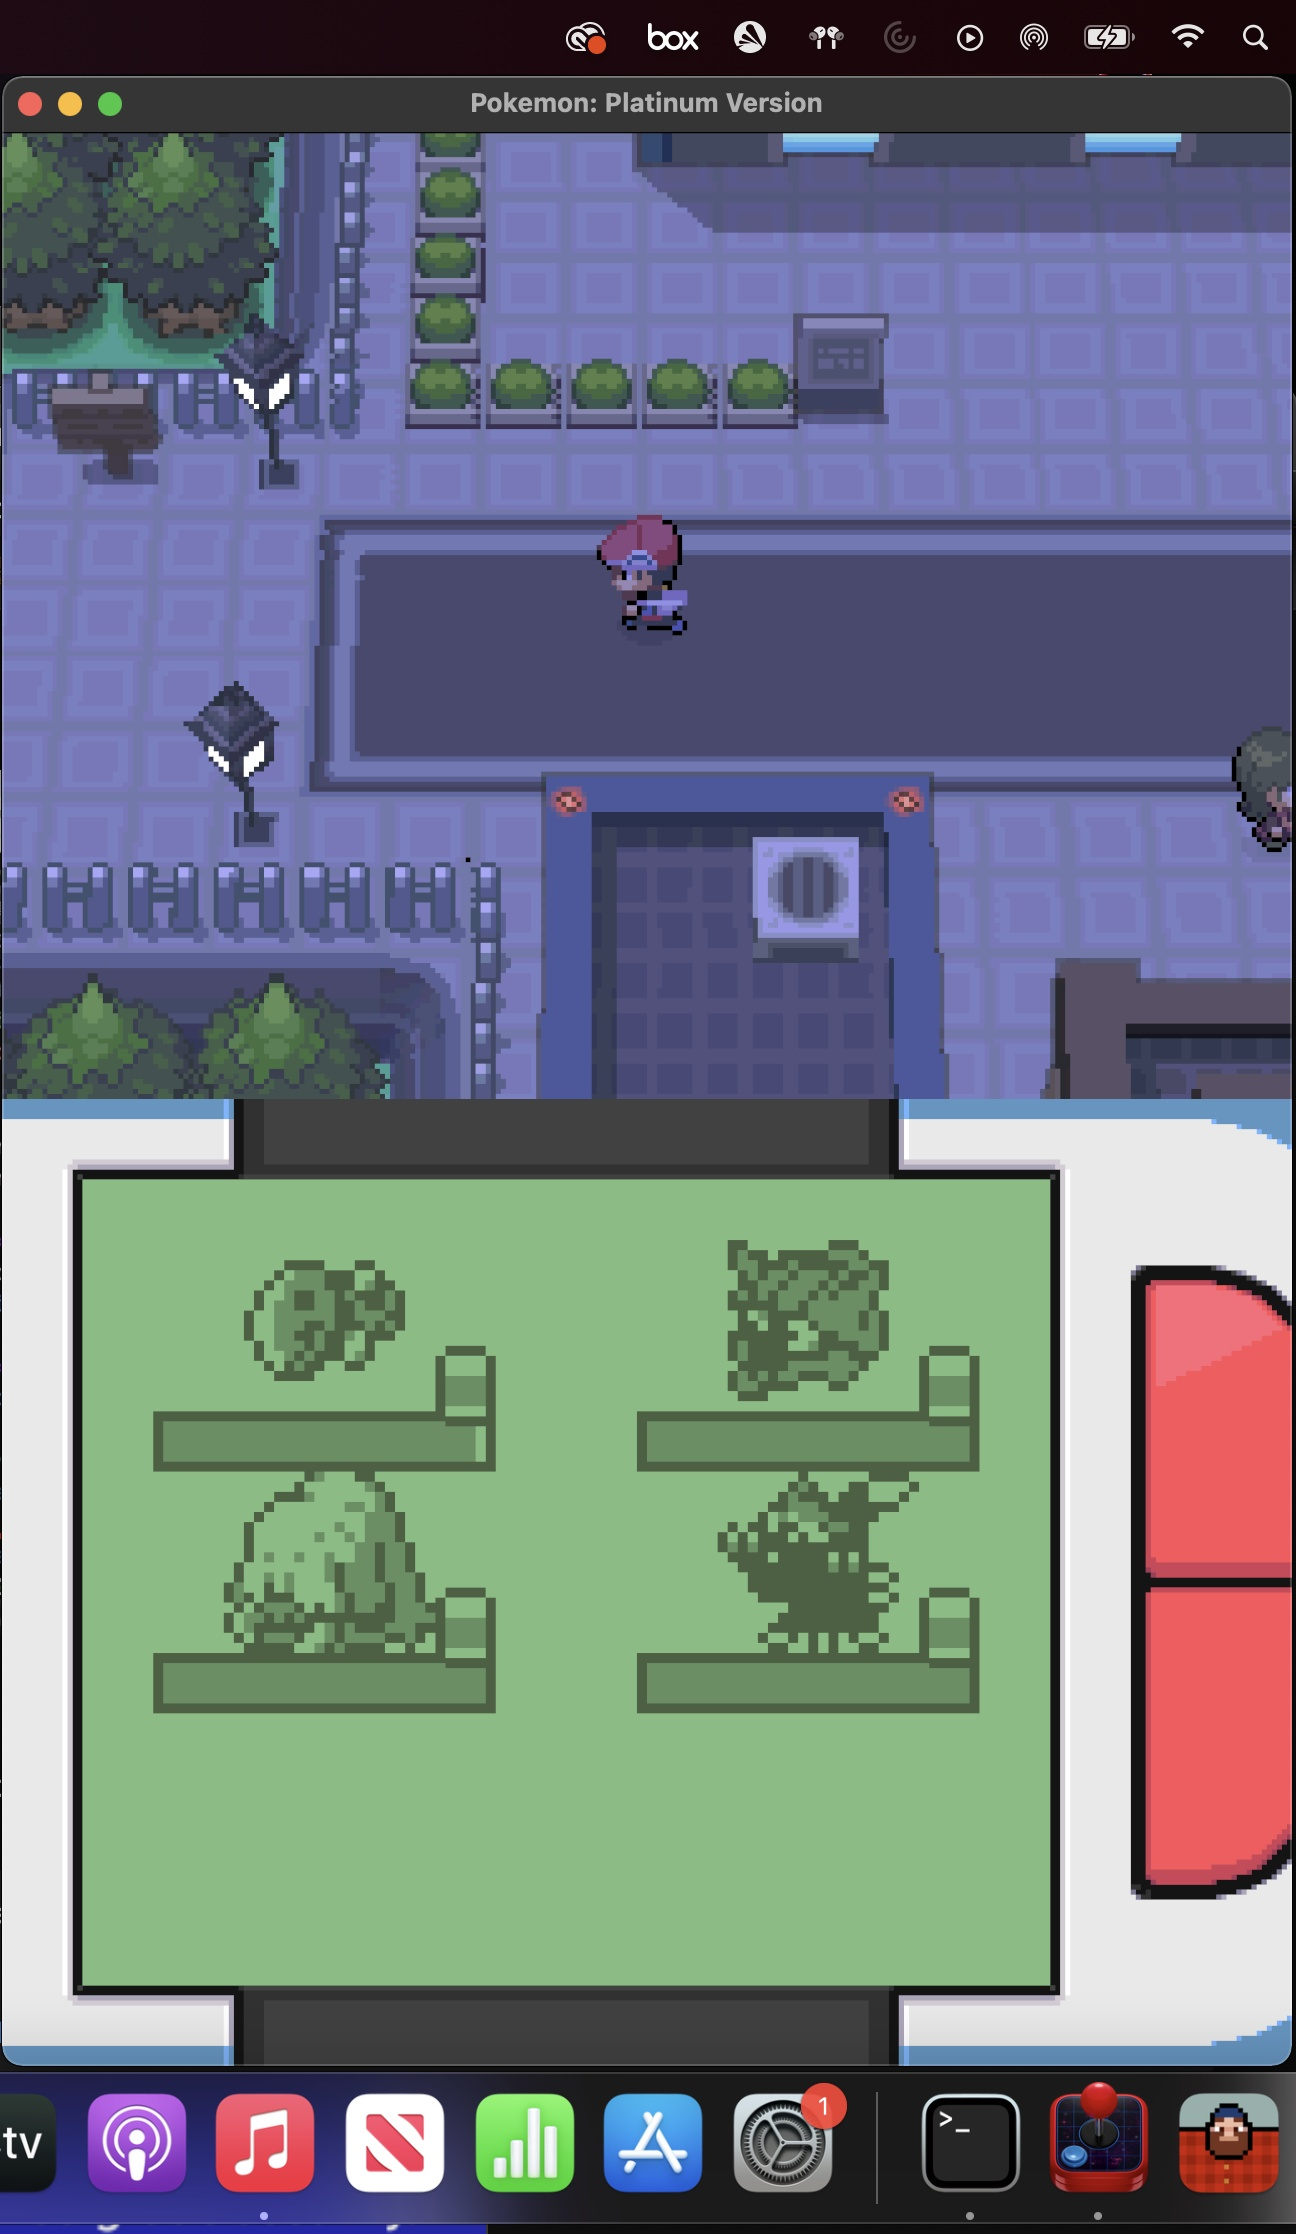player: (579, 514, 713, 651)
turn right: (34, 317, 324, 496)
